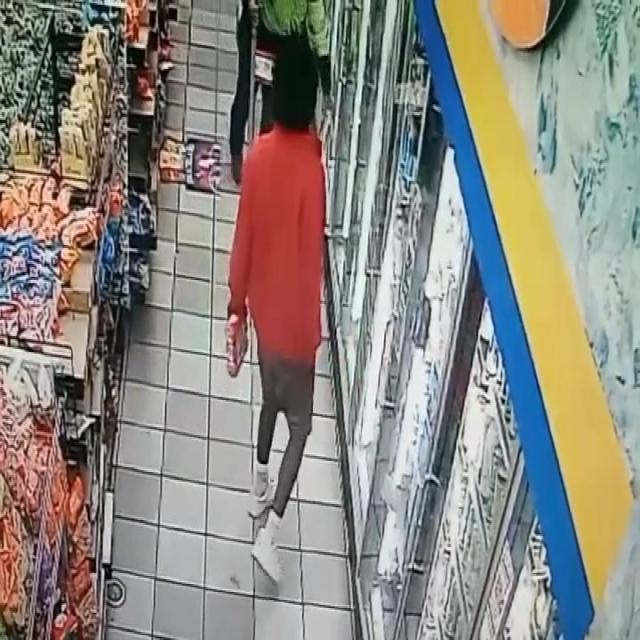Normal: (221, 0, 358, 587), (226, 0, 371, 197)
